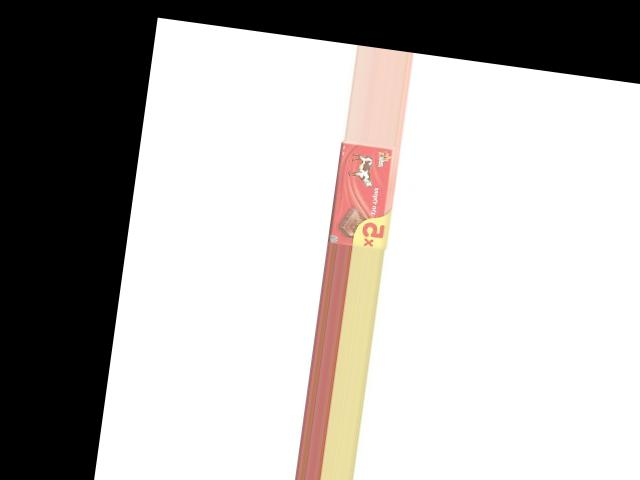chocolate: (328, 138, 402, 250)
